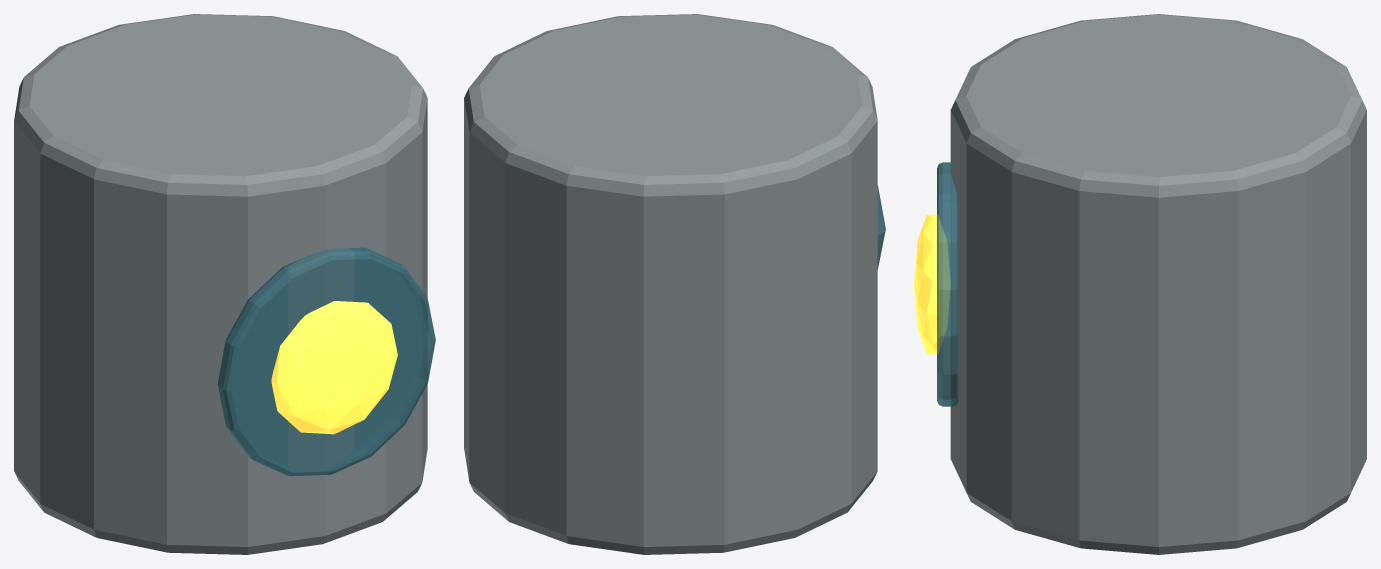
File: Find_SolarSample.glb
3 renders of one model, left to right at view 1: azimuth 30°, elevation 25°; view 2: azimuth 150°, elevation 25°; view 3: azimuth 270°, elevation 25°, orthographic.
Parts seen in each view (by area): view 1: Find_SolarSample, Find_SolarSample_Window, Find_SolarSample_Glow; view 2: Find_SolarSample; view 3: Find_SolarSample, Find_SolarSample_Window, Find_SolarSample_Glow.
Part boxes in pixels (box(x1,y1,x2,y2)): Find_SolarSample: box(14, 14, 427, 554); Find_SolarSample_Window: box(217, 247, 435, 476); Find_SolarSample_Glow: box(271, 301, 397, 434); Find_SolarSample: box(464, 14, 877, 554); Find_SolarSample: box(950, 14, 1366, 554); Find_SolarSample_Window: box(937, 162, 958, 406); Find_SolarSample_Glow: box(914, 214, 950, 354).
Bounding box in the file's own units: 0.68 × 0.68 × 0.74.
